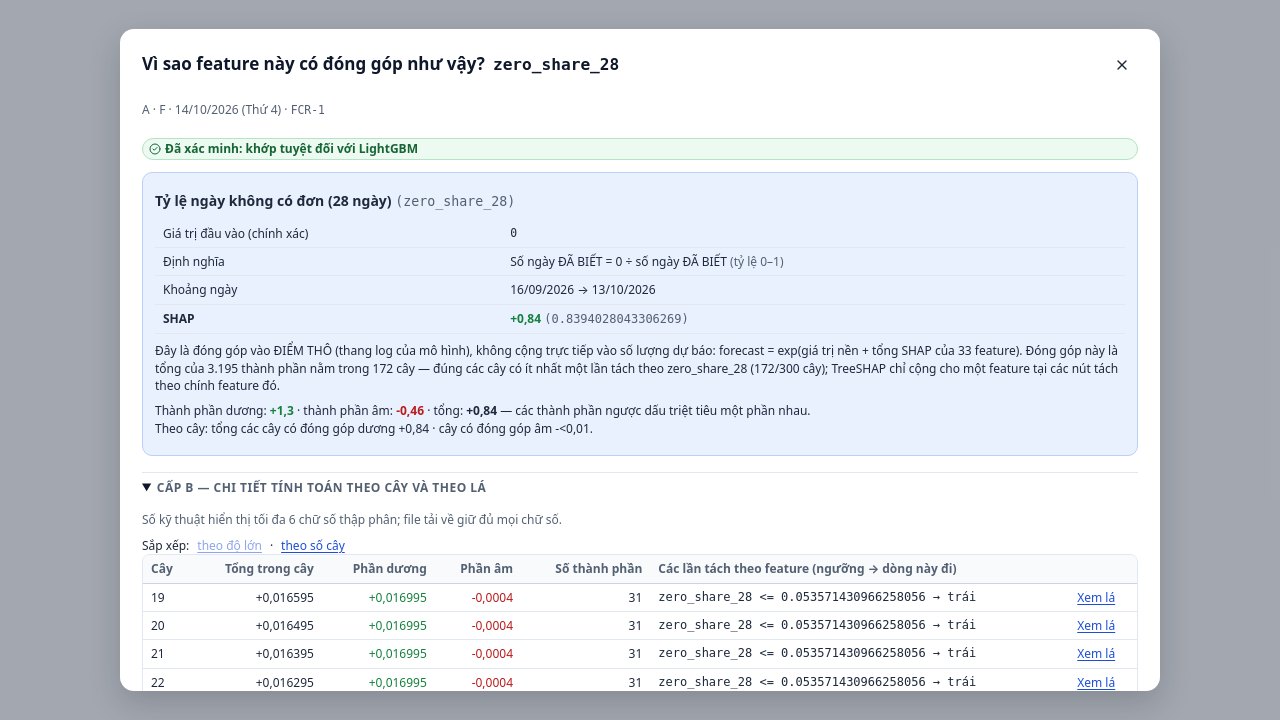
Scenario: TreeSHAP trace screen › verified: level A explains raw-score scale, tree count, positive/negative terms; level B pages trees and opens leaf terms
Expected: the element with test id "trace-level-a" is shown, [142,172,1138,456]
Expected: the text with test id "trace-status" shows "Đã xác minh", [165,140,418,157]
Click the button with test id "trace-open-tree-19" at (1096, 597), box [1077,590,1115,605]
(page scrolled)
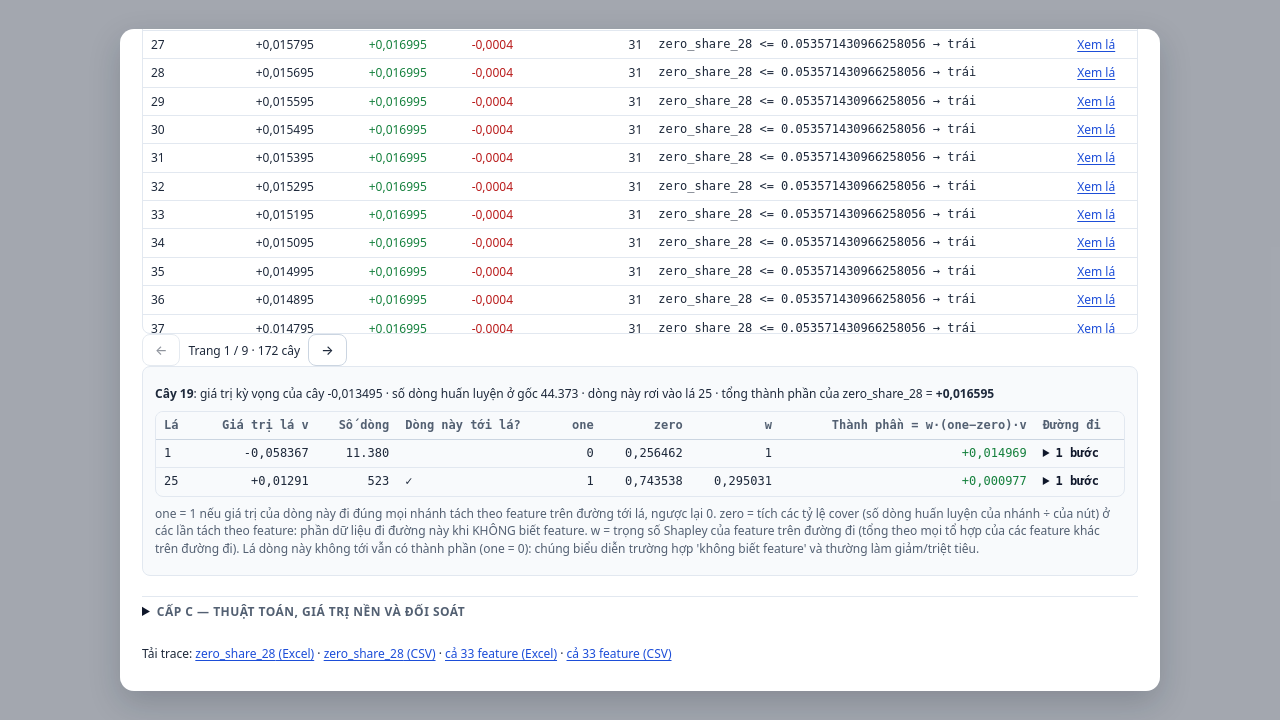
Now the element with test id "trace-leaves" shows "44.373", box [541,385,578,402]
Now the element with test id "trace-leaves" shows "+0,014969", box [962,446,1027,460]
